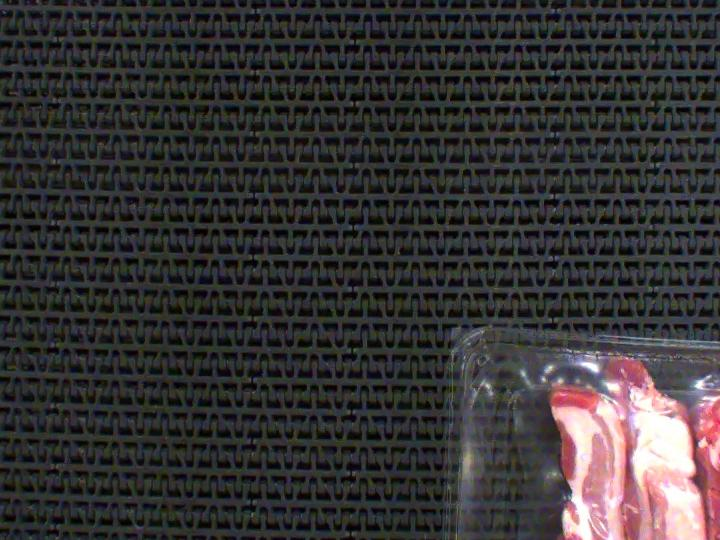unsealed: (477, 327, 720, 540)
